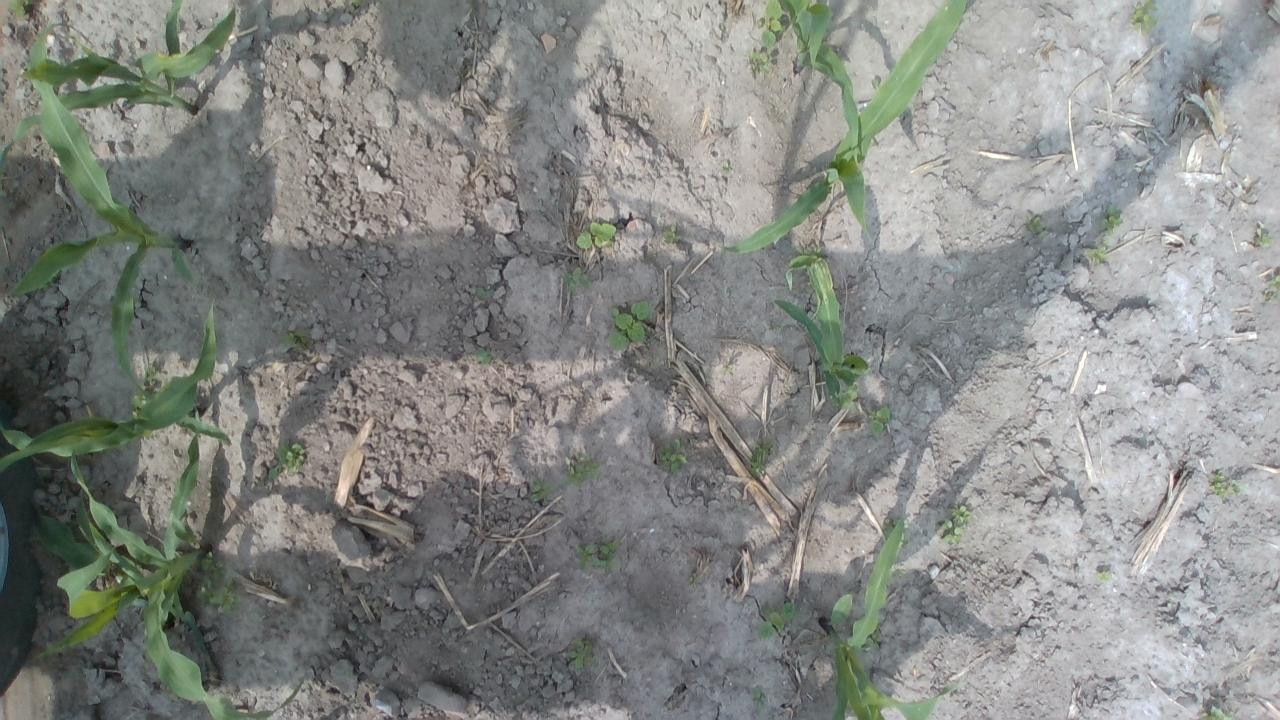Maize: (25, 433, 308, 720), (8, 23, 200, 405), (717, 0, 969, 253), (0, 298, 232, 478), (0, 0, 237, 174), (819, 521, 969, 720), (771, 253, 869, 410), (778, 1, 834, 71)
Weeds: (608, 300, 650, 352), (199, 578, 245, 613), (268, 442, 306, 480), (758, 601, 796, 639), (756, 0, 783, 49), (576, 540, 619, 570), (941, 504, 971, 546), (576, 222, 616, 252), (1210, 470, 1247, 501), (564, 453, 598, 486), (658, 438, 689, 473), (568, 638, 598, 670), (1131, 0, 1158, 34), (561, 267, 592, 293), (750, 441, 771, 476), (1101, 204, 1123, 237), (868, 406, 892, 435), (884, 520, 908, 546), (204, 553, 226, 580), (750, 52, 773, 77), (1201, 704, 1236, 720), (528, 483, 552, 505), (1026, 212, 1046, 234), (8, 0, 32, 18), (474, 346, 494, 366), (141, 366, 159, 388), (1266, 274, 1280, 302), (284, 332, 310, 347), (663, 224, 681, 244), (1088, 245, 1108, 263), (840, 390, 856, 410), (1254, 234, 1274, 249), (1096, 566, 1112, 581), (476, 286, 494, 299), (688, 574, 702, 588), (722, 162, 732, 172), (352, 0, 362, 8)
